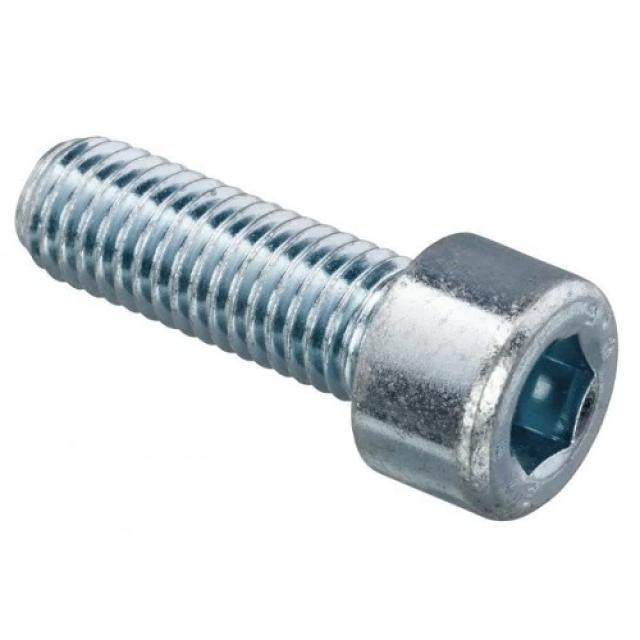allen: (466, 282, 621, 522)
